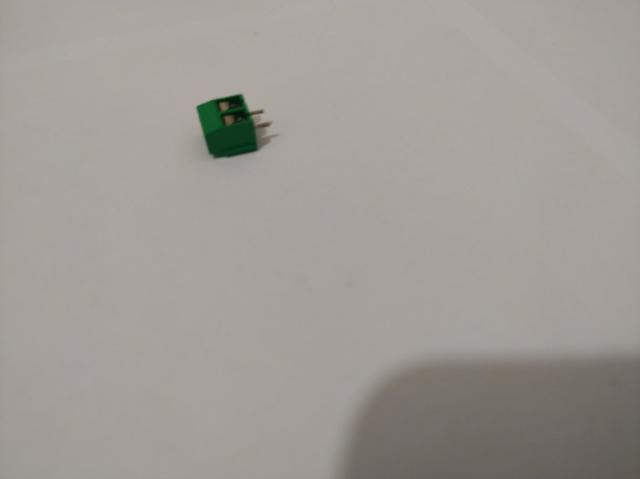terminal_block: (196, 92, 270, 158)
